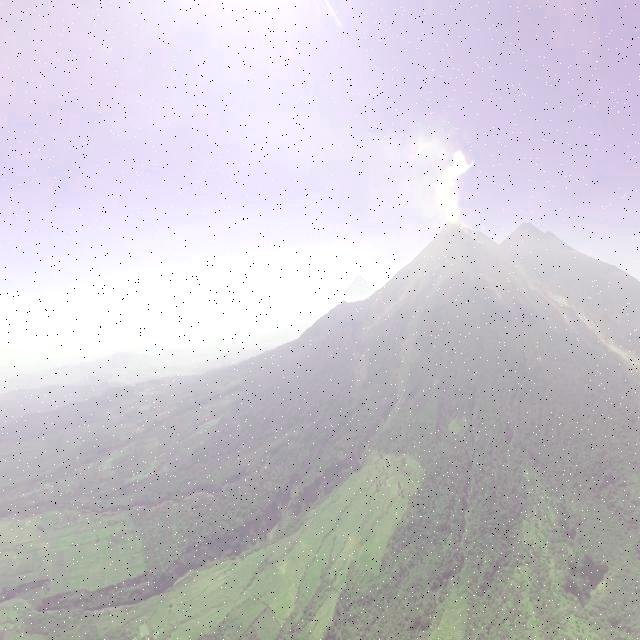Plume: (432, 150, 470, 230)
Summit: (434, 217, 469, 240)
